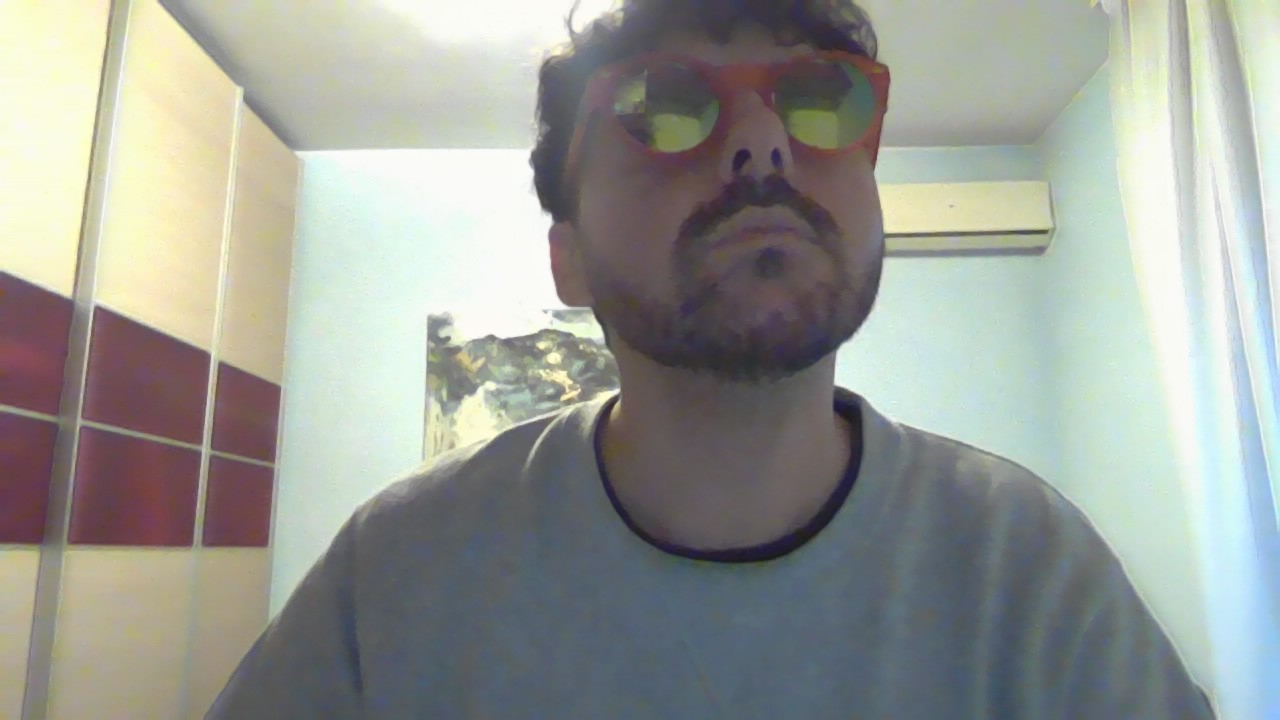Glasses: (541, 41, 920, 175)
